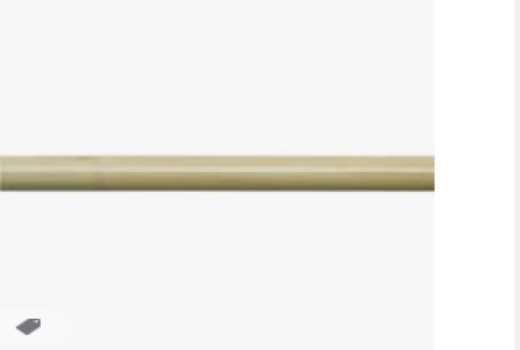baston_e: (15, 151, 409, 200)
baston_v: (418, 143, 451, 204)
